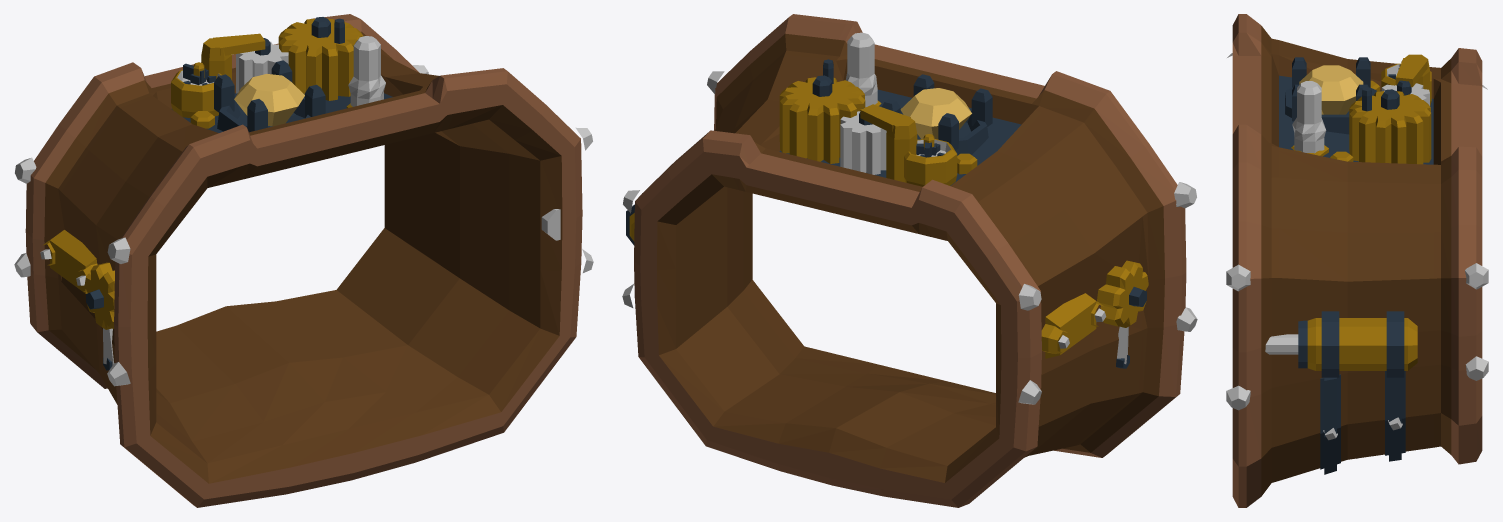
File: clockwork-cuff-bracelet-e6123f.glb
The picture shows the model from 3 angles, left to right: view 1: azimuth 30°, elevation 25°; view 2: azimuth 150°, elevation 25°; view 3: azimuth 270°, elevation 25°; orthographic projection. The views are drawn at different scales.
Parts seen in each view (by area): view 1: clockwork-cuff; view 2: clockwork-cuff; view 3: clockwork-cuff.
Part boxes in pixels (left/top/right/bottom): clockwork-cuff: left=14, top=14, right=593, bottom=507; clockwork-cuff: left=622, top=14, right=1197, bottom=507; clockwork-cuff: left=1226, top=14, right=1488, bottom=507.
Bounding box in the file's own units: 0.0727 × 0.0581 × 0.0356.
